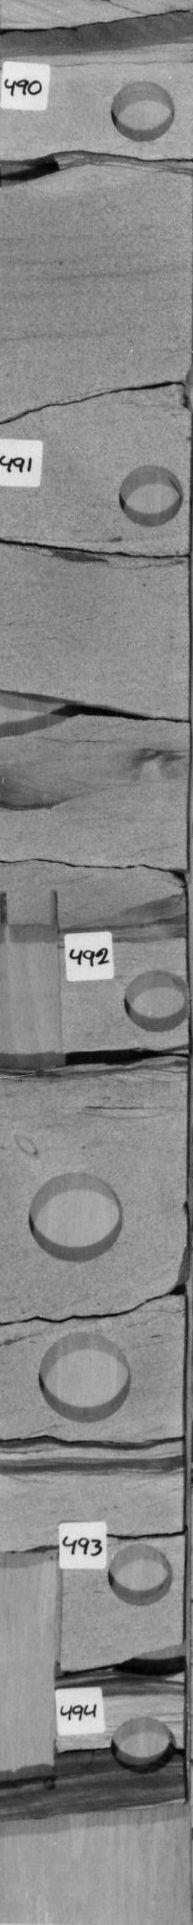hplug: (111, 457, 189, 533), (119, 965, 193, 1039), (107, 72, 179, 147), (103, 1540, 177, 1609), (103, 1711, 181, 1776)
scal: (23, 1168, 127, 1267), (31, 1331, 136, 1425)
vplug: (1, 1542, 68, 1797), (1, 881, 69, 1082)
